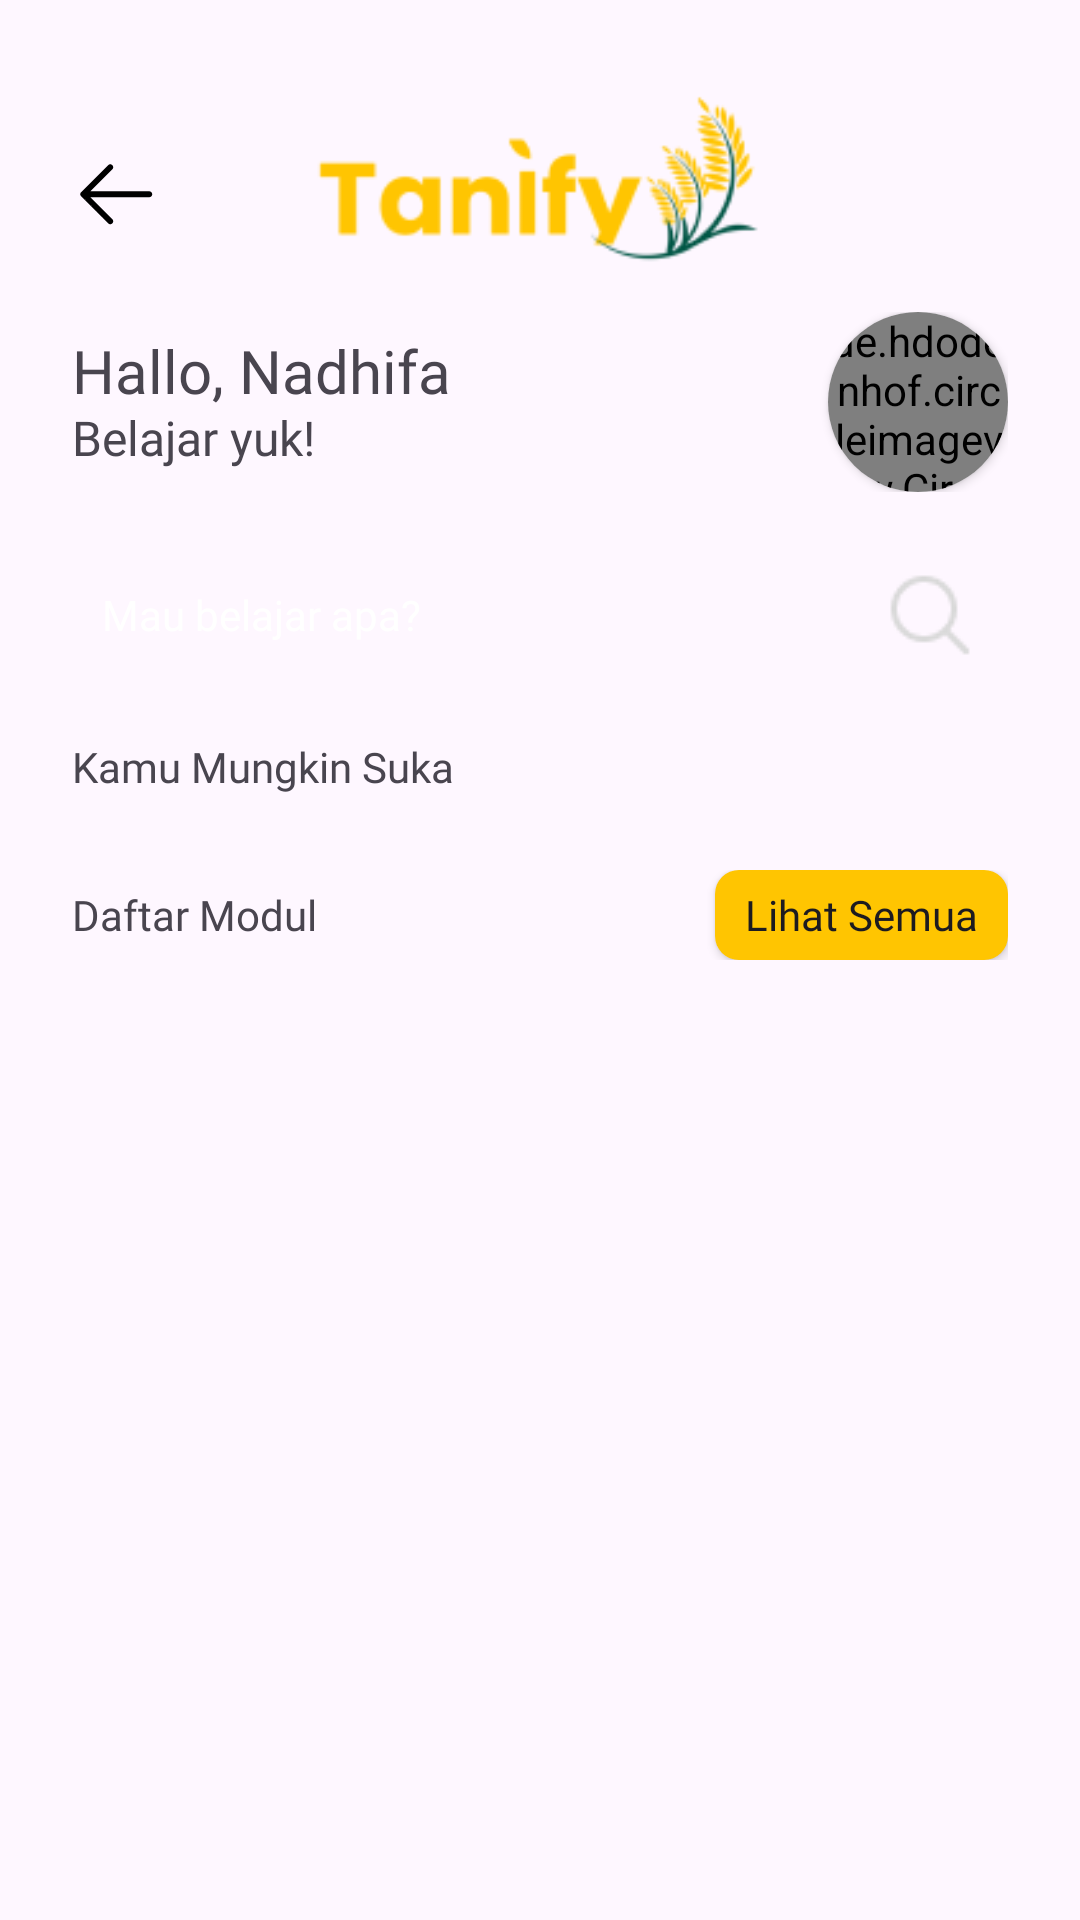

Screen size 1080×1920. Icon name, then its center in pixels as (x,y):
left arrow: (116,194)
search: (929,614)
